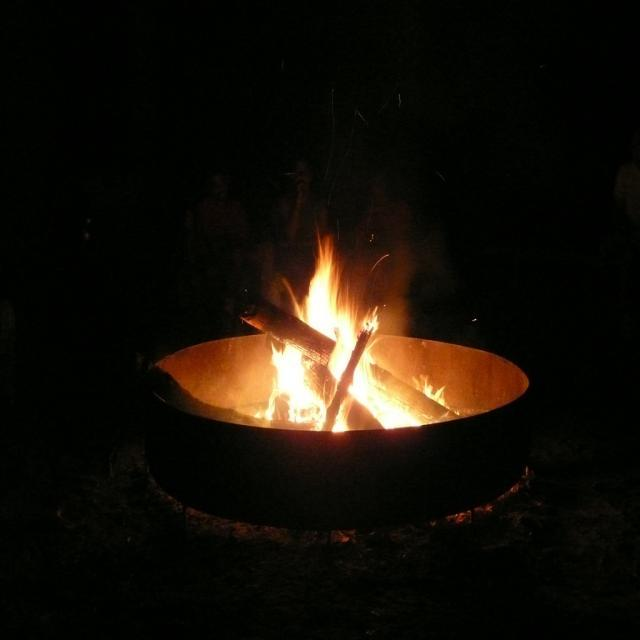Fire: (306, 282, 346, 338), (357, 372, 388, 418)
